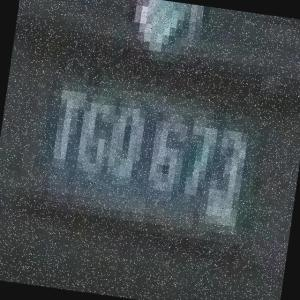Plate: (23, 47, 285, 261)
